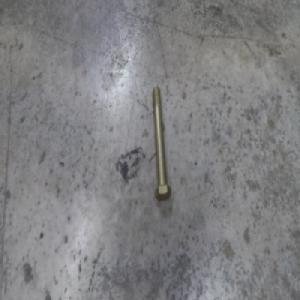Bolt: (149, 87, 170, 199)
